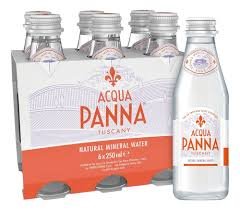Botella: (174, 19, 228, 198), (128, 10, 180, 60), (76, 11, 122, 57), (24, 12, 64, 60)
